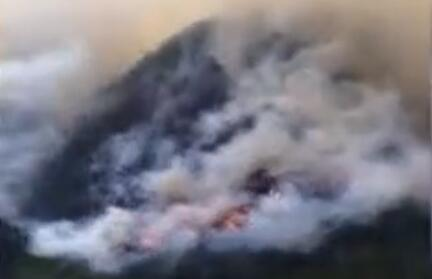yanwu: (1, 0, 430, 270)
